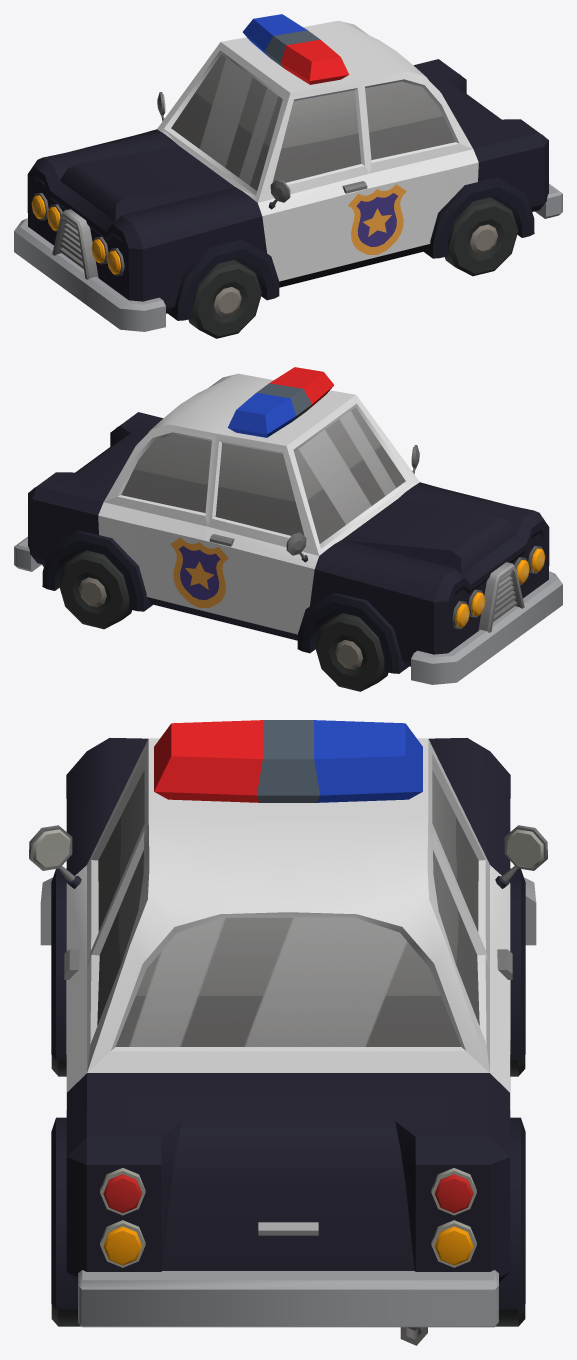
File: Car_Police_4_A_1.fbx
3 renders of one model, top to bottom at view 1: azimuth 30°, elevation 25°; view 2: azimuth 150°, elevation 25°; view 3: azimuth 270°, elevation 25°, orthographic. The views are drawn at different scales.
Parts seen in each view (by area): view 1: Car_Police_4_A_1, RL, FL; view 2: Car_Police_4_A_1, RR, FR; view 3: Car_Police_4_A_1.
Part boxes in pixels (x1,y1,x2,y2): Car_Police_4_A_1: (14,14,562,331); RL: (444,197,518,276); FL: (188,260,261,338); Car_Police_4_A_1: (14,367,562,684); RR: (58,550,132,629); FR: (315,613,388,691); Car_Police_4_A_1: (29,720,547,1345).
Size of the model in its own units: 336 by 164 by 170.
